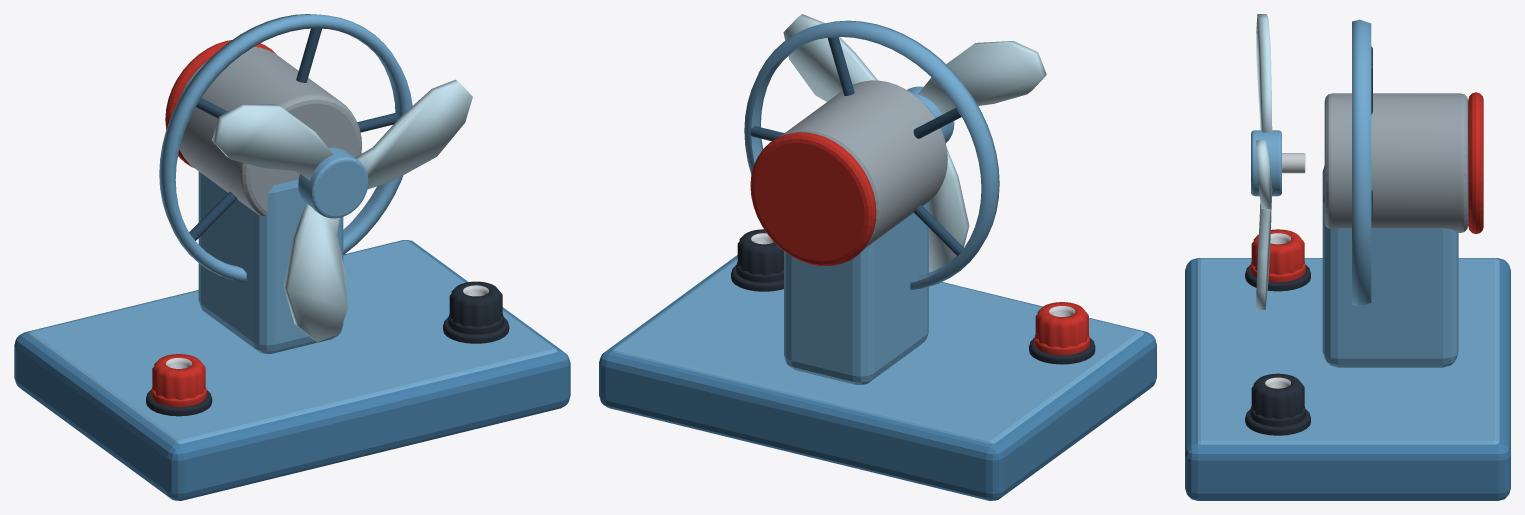
File: motor-fan.glb
3 views of the same model, side by side, from view 1: azimuth 30°, elevation 25°; view 2: azimuth 150°, elevation 25°; view 3: azimuth 270°, elevation 25° (orthographic).
Visible parts, largest first — view 1: Top shoulder, Motor demonstration base, Motor height bracket, DC motor can, Fan back guard rim, Swept fan blade.002, Swept fan blade, Swept fan blade.001, Propeller hub, n binding socket, p binding socket, Motor back cap (+4 smaller); view 2: Top shoulder, Motor demonstration base, Motor height bracket, Motor back cap, DC motor can, Fan back guard rim, Swept fan blade.001, Swept fan blade, Swept fan blade.002, p binding socket, n binding socket, p socket washer (+2 smaller); view 3: Top shoulder, Motor demonstration base, Motor height bracket, DC motor can, Fan back guard rim, Motor back cap, n binding socket, p binding socket, Swept fan blade.001, Propeller hub, Swept fan blade.002, Swept fan blade (+5 smaller).
Boxes of the visible parts, x1,y1,x2,y2 form: Top shoulder: [27, 240, 557, 443]; Motor demonstration base: [14, 240, 570, 500]; Motor height bracket: [198, 171, 343, 353]; DC motor can: [178, 46, 361, 216]; Fan back guard rim: [159, 14, 412, 282]; Swept fan blade.002: [283, 203, 347, 341]; Swept fan blade: [355, 79, 472, 189]; Swept fan blade.001: [212, 104, 333, 180]; Propeller hub: [298, 147, 368, 218]; n binding socket: [449, 281, 502, 327]; p binding socket: [152, 354, 205, 399]; Motor back cap: [165, 40, 276, 167]; Top shoulder: [612, 258, 1143, 443]; Motor demonstration base: [599, 255, 1156, 500]; Motor height bracket: [784, 202, 928, 384]; Motor back cap: [750, 132, 876, 265]; DC motor can: [780, 80, 947, 249]; Fan back guard rim: [744, 20, 999, 289]; Swept fan blade.001: [918, 41, 1046, 114]; Swept fan blade: [783, 14, 877, 101]; Swept fan blade.002: [929, 147, 969, 272]; p binding socket: [1035, 302, 1088, 347]; n binding socket: [737, 229, 783, 275]; p socket washer: [1029, 338, 1095, 364]; Top shoulder: [1196, 258, 1499, 444]; Motor demonstration base: [1185, 258, 1510, 500]; Motor height bracket: [1322, 165, 1458, 367]; DC motor can: [1324, 93, 1468, 232]; Fan back guard rim: [1352, 19, 1371, 306]; Motor back cap: [1468, 92, 1483, 233]; n binding socket: [1251, 373, 1304, 419]; p binding socket: [1251, 229, 1304, 274]; Swept fan blade.001: [1256, 14, 1272, 132]; Propeller hub: [1251, 130, 1281, 196]; Swept fan blade.002: [1256, 201, 1271, 309]; Swept fan blade: [1256, 140, 1272, 208].
Size of the model in its own units: 0.119 by 0.108 by 0.084.
